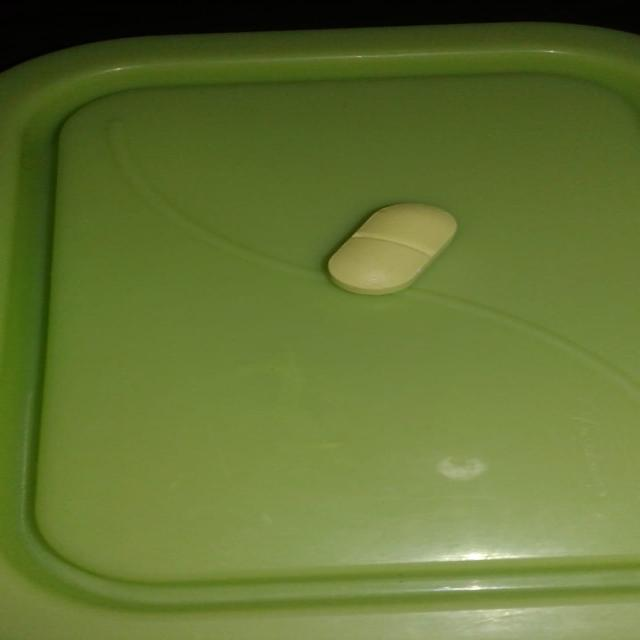pills: (307, 187, 479, 302)
